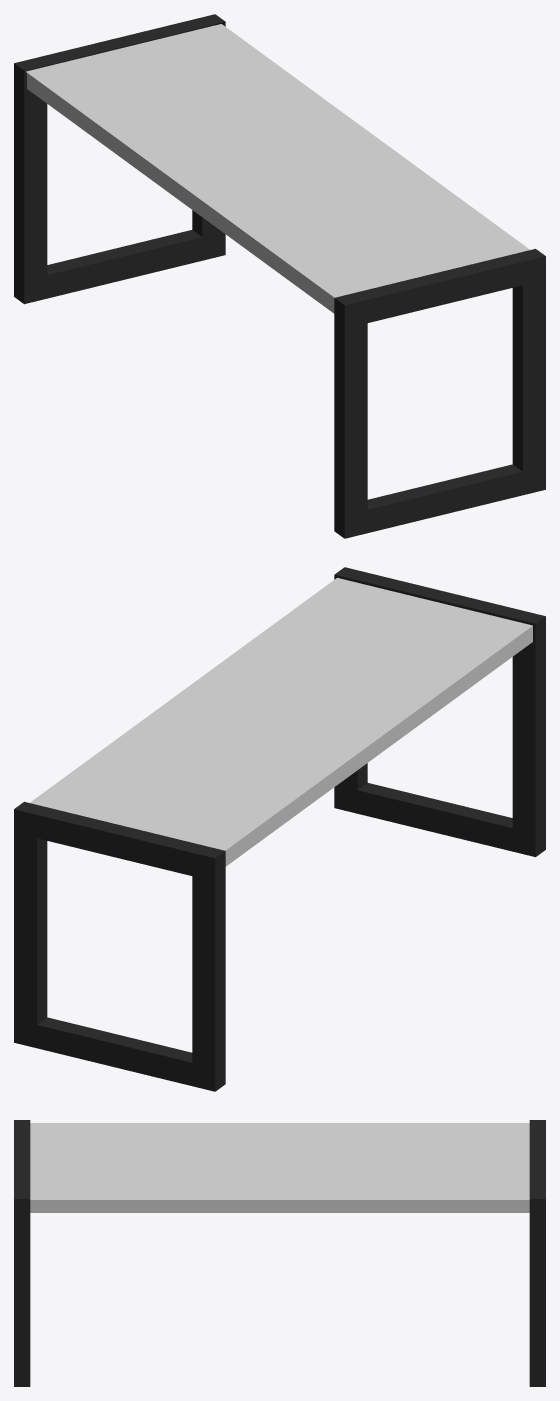
Rendered from Table_4.fbx.
3 views of the same model, one above another, from view 1: azimuth 30°, elevation 25°; view 2: azimuth 150°, elevation 25°; view 3: azimuth 270°, elevation 25° (orthographic). The views are drawn at different scales.
Visible parts, largest first — view 1: polySurface1, polySurface2, polySurface3; view 2: polySurface1, polySurface3, polySurface2; view 3: polySurface1, polySurface2, polySurface3.
Boxes of the visible parts, x1,y1,x2,y2 form: polySurface1: (26,24,529,313); polySurface2: (334,248,545,538); polySurface3: (14,14,225,304); polySurface1: (30,578,532,866); polySurface3: (14,801,225,1091); polySurface2: (334,567,545,857); polySurface1: (30,1123,529,1212); polySurface2: (14,1120,30,1386); polySurface3: (529,1120,545,1386).
Size of the model in its own units: 55.26 by 61.26 by 157.
